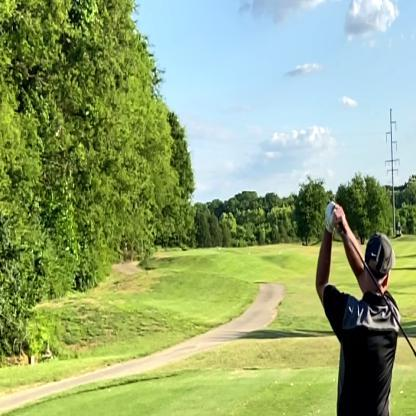GolfBall: (414, 349, 416, 408)
